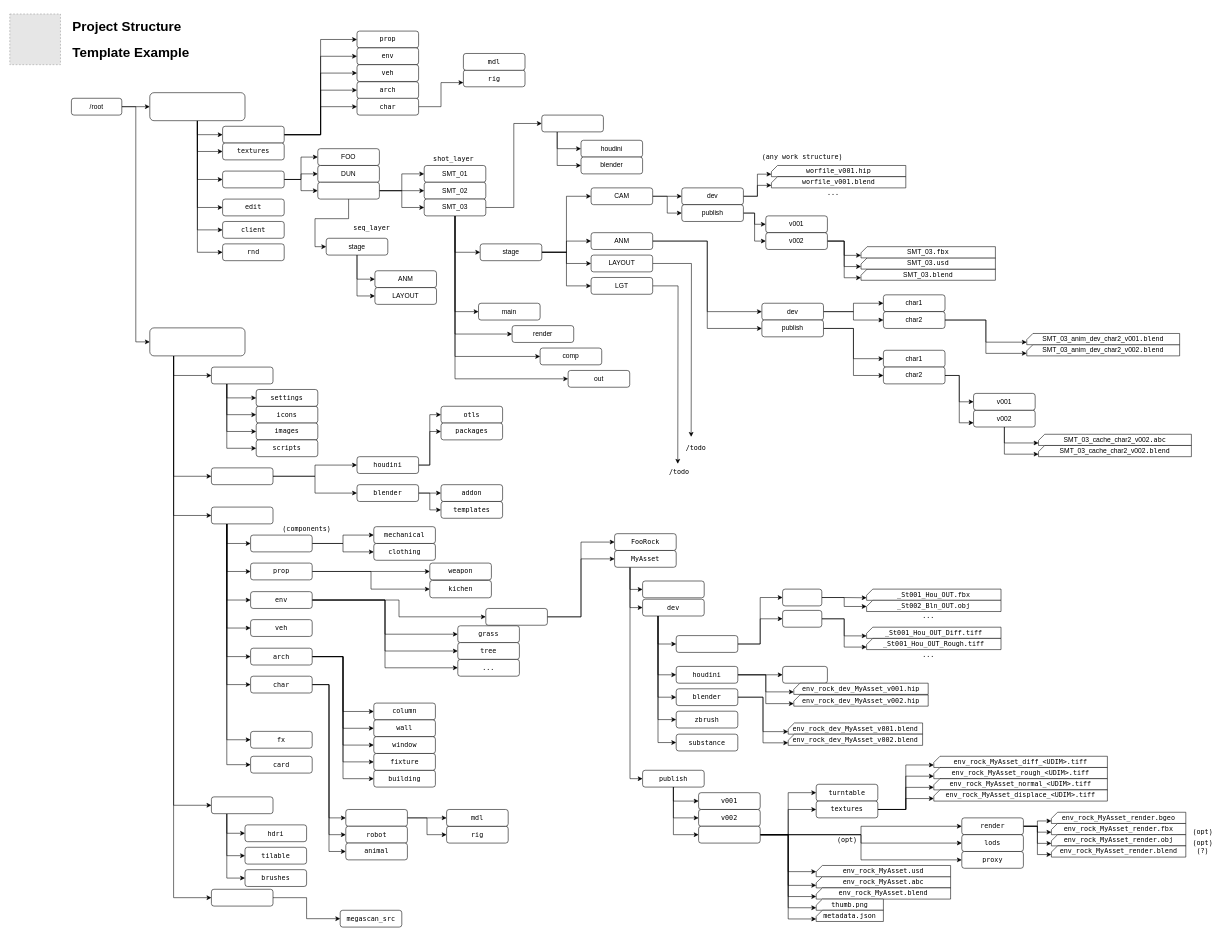
The diagram is 1226 pixels wide and 939 high, and some of its shapes have lost their labels. Grey dashed boxes stand in for pictures. The shapes that lost their labels are listed below. From the top down, each one's centre as x and y in pixels, then its label:
pixel 197 106: Project1
pixel 572 123: sandbox
pixel 253 134: assets
pixel 253 179: sequence
pixel 348 190: SMT
pixel 197 341: UserLibrary
pixel 242 375: custom
pixel 242 476: lib_tools
pixel 242 515: lib_assets
pixel 281 543: cpn
pixel 673 589: .temp
pixel 802 597: geo
pixel 516 616: rock
pixel 802 618: tex
pixel 707 643: temp
pixel 804 674: cache
pixel 242 805: lib_textures
pixel 376 817: human
pixel 729 834: v003
pixel 242 897: extern
